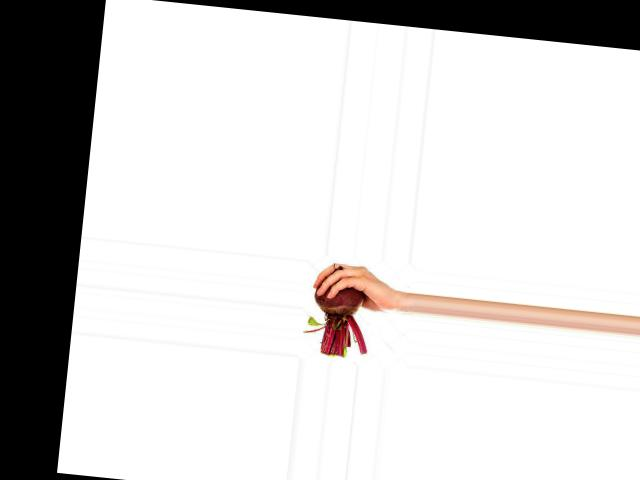beet: (301, 262, 375, 359)
